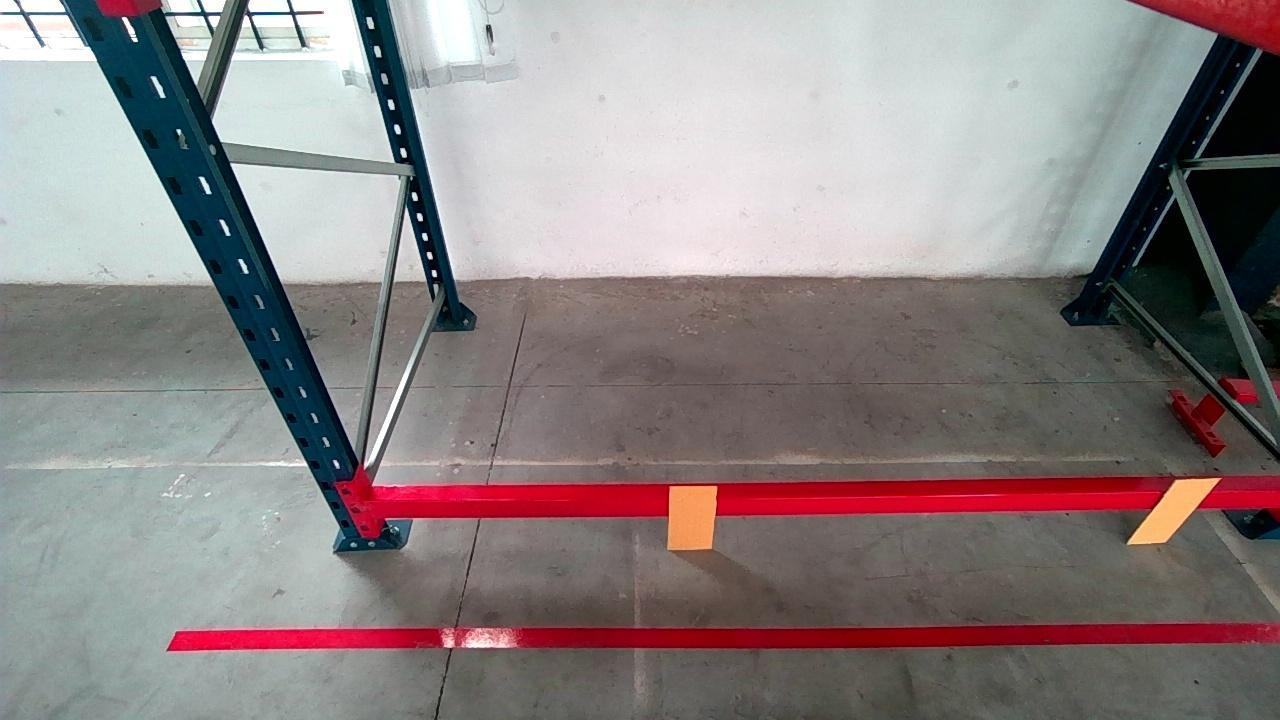h_rack: (372, 476, 1277, 522)
orange_strip: (1130, 476, 1218, 543), (668, 484, 718, 548)
red_line: (174, 618, 1267, 665)
